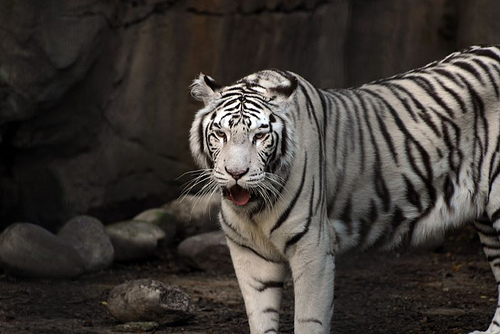Tigre: (169, 65, 471, 277)
